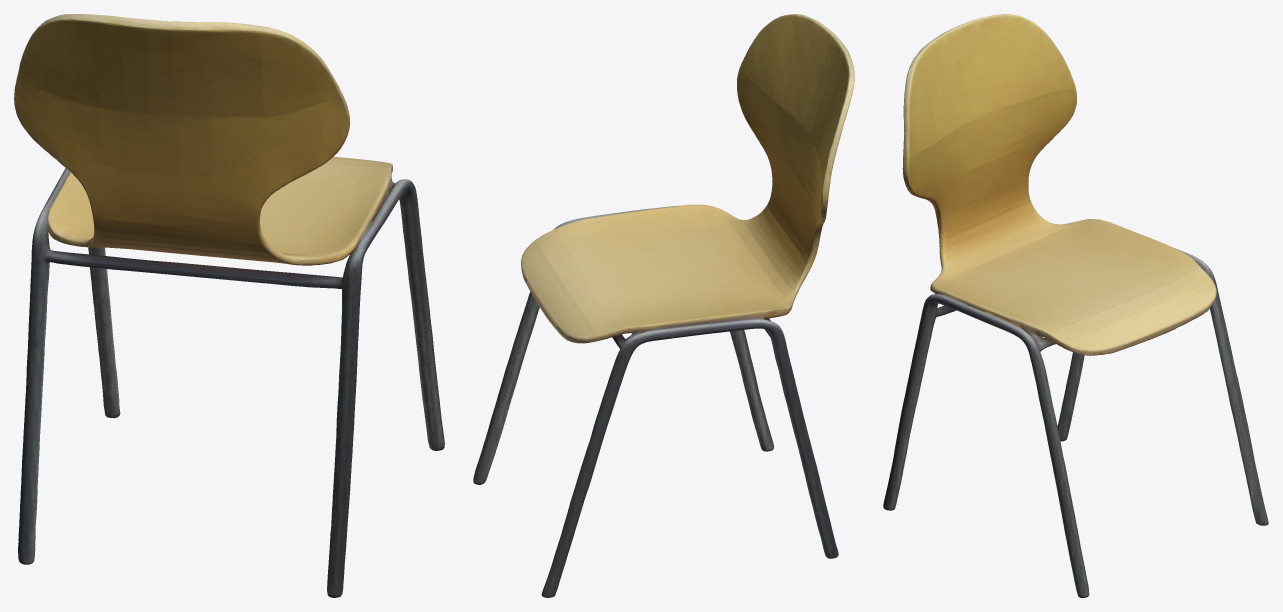
Rendered from light-colored_wooden_chair_at_back_row_right_table_(left)_000.glb.
3 views of the same model, side by side, from view 1: azimuth 30°, elevation 25°; view 2: azimuth 150°, elevation 25°; view 3: azimuth 270°, elevation 25° (orthographic). The views are drawn at different scales.
Parts seen in each view (by area): view 1: phase2_final_light-colored_wooden_chair_at_back_row_right_ta; view 2: phase2_final_light-colored_wooden_chair_at_back_row_right_ta; view 3: phase2_final_light-colored_wooden_chair_at_back_row_right_ta.
Boxes of the visible parts, <box> form: phase2_final_light-colored_wooden_chair_at_back_row_right_ta: <box>14,14,444,597</box>; phase2_final_light-colored_wooden_chair_at_back_row_right_ta: <box>473,14,854,597</box>; phase2_final_light-colored_wooden_chair_at_back_row_right_ta: <box>883,14,1268,597</box>.
Bounding box in the file's own units: 0.368 × 0.4668 × 0.3722.
Materials: 1 (1 with a texture image).
